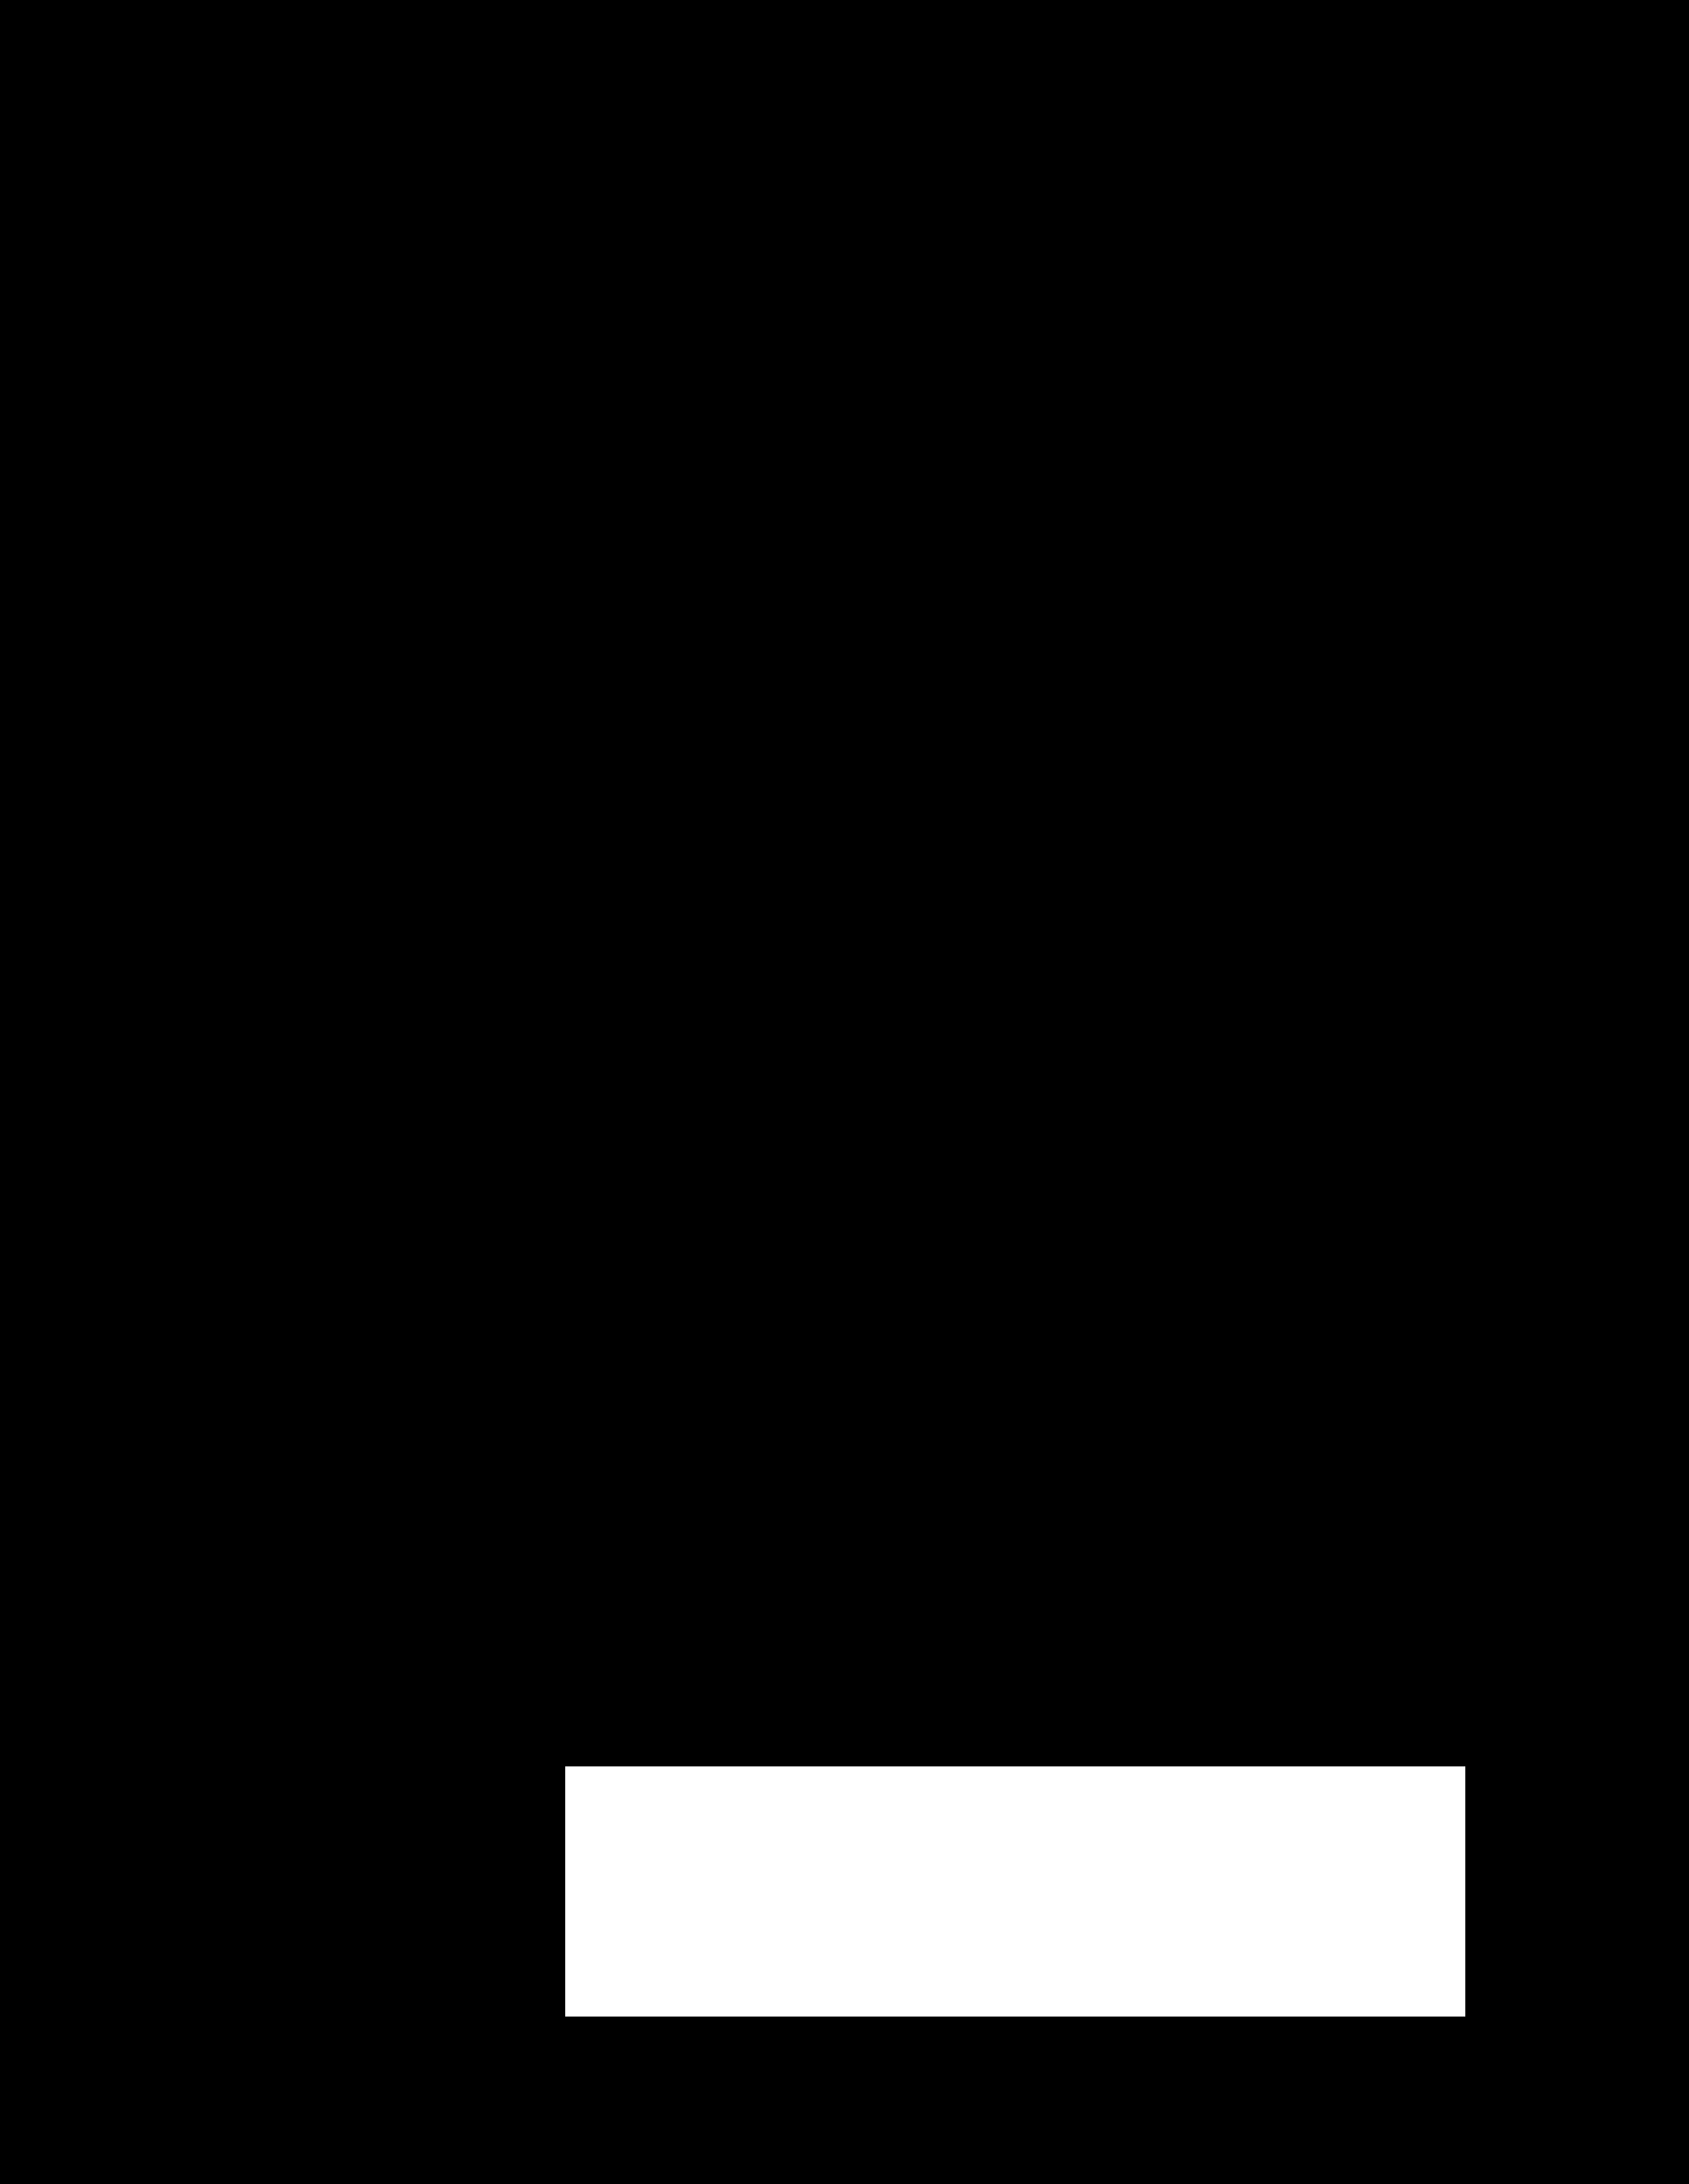table: (565, 1766, 1464, 2016)
